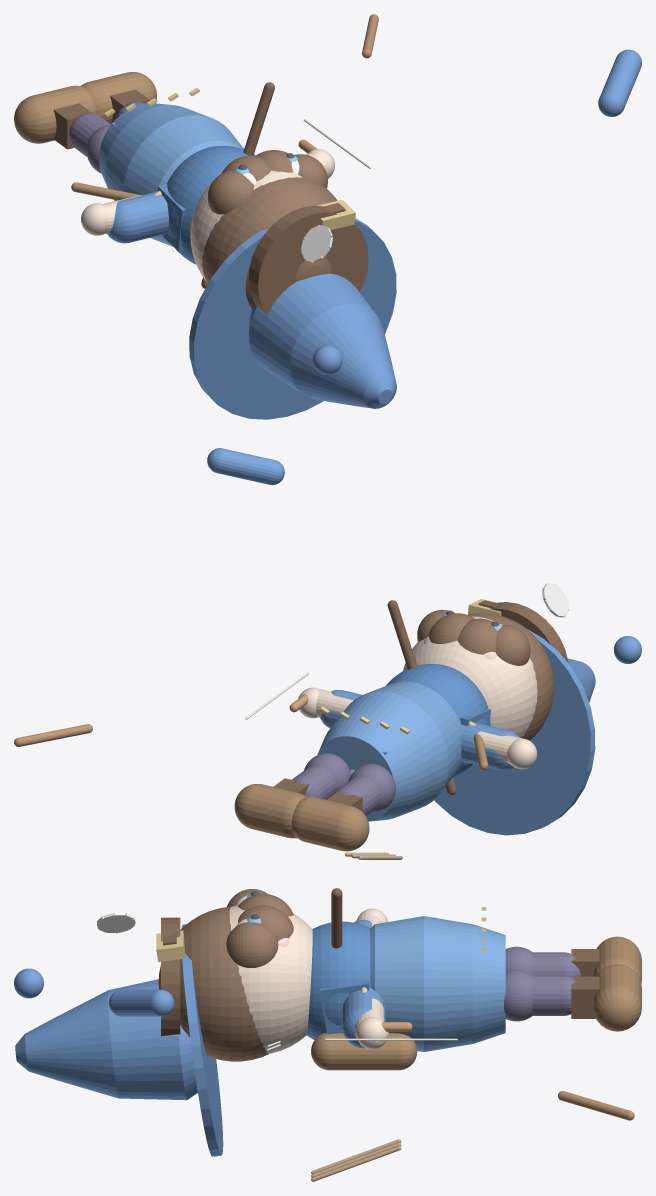
Rendered from mago_the_first_spark.glb.
3 renders of one model, top to bottom at view 1: azimuth 30°, elevation 25°; view 2: azimuth 150°, elevation 25°; view 3: azimuth 270°, elevation 25°, orthographic. The views are drawn at different scales.
Visible parts, largest first — view 1: hat_top, hat_brim, robe, hat_band, hair_cap, cloak_upper, boot_left, sleeve_left, hat_curl, boot_right, head, bang_0 (+9 smaller); view 2: hat_brim, robe, head, boot_left, cloak_upper, boot_right, hair_cap, hat_curl, hat_band, sleeve_left, bang_0, bang_1 (+11 smaller); view 3: robe, hat_top, hair_cap, head, cloak_upper, hat_brim, quiver, boot_right, bang_3, hat_curl, leg_right, hat_band (+16 smaller).
Part boxes in pixels (x1,y1,x2,y2): hat_top: (249, 273, 396, 408); hat_brim: (189, 218, 396, 419); robe: (99, 103, 243, 246); hat_band: (248, 205, 368, 314); hair_cap: (202, 177, 337, 309); cloak_upper: (167, 146, 255, 264); boot_left: (14, 85, 96, 143); sleeve_left: (107, 191, 168, 243); hat_curl: (598, 49, 641, 116); boot_right: (81, 72, 156, 123); head: (190, 170, 302, 283); bang_0: (207, 170, 254, 214); hat_brim: (434, 629, 595, 835); robe: (317, 681, 462, 821); head: (403, 616, 537, 737); boot_left: (291, 797, 369, 851); cloak_upper: (386, 664, 490, 777); boot_right: (234, 784, 306, 838); hair_cap: (467, 613, 554, 740); hat_curl: (207, 448, 284, 485); hat_band: (490, 602, 568, 662); sleeve_left: (461, 722, 518, 770); bang_0: (495, 625, 530, 665); bang_1: (457, 618, 497, 654); robe: (370, 916, 505, 1051); hat_top: (15, 979, 209, 1100); hair_cap: (158, 906, 268, 1061); head: (229, 906, 312, 1053); cloak_upper: (306, 921, 370, 1039); hat_brim: (181, 924, 223, 1156); quiver: (311, 1033, 417, 1070); boot_right: (593, 964, 641, 1031); bang_3: (226, 922, 278, 967); hat_curl: (108, 989, 174, 1016); leg_right: (532, 975, 574, 1015); hat_band: (161, 917, 180, 1036).
Bounding box in the file's own units: 1.92 × 1.28 × 2.3.
